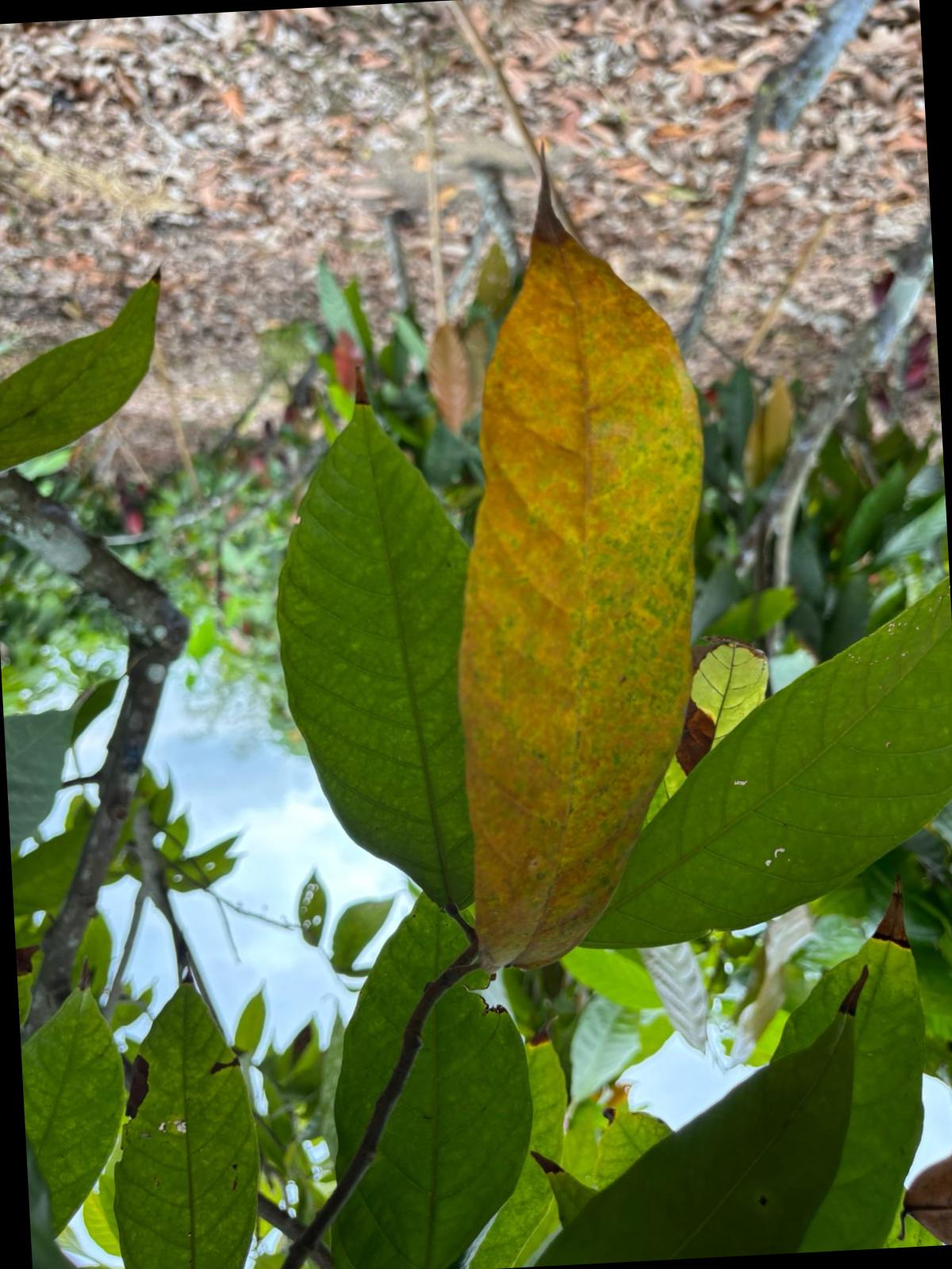Fosforo: (458, 177, 702, 969)
